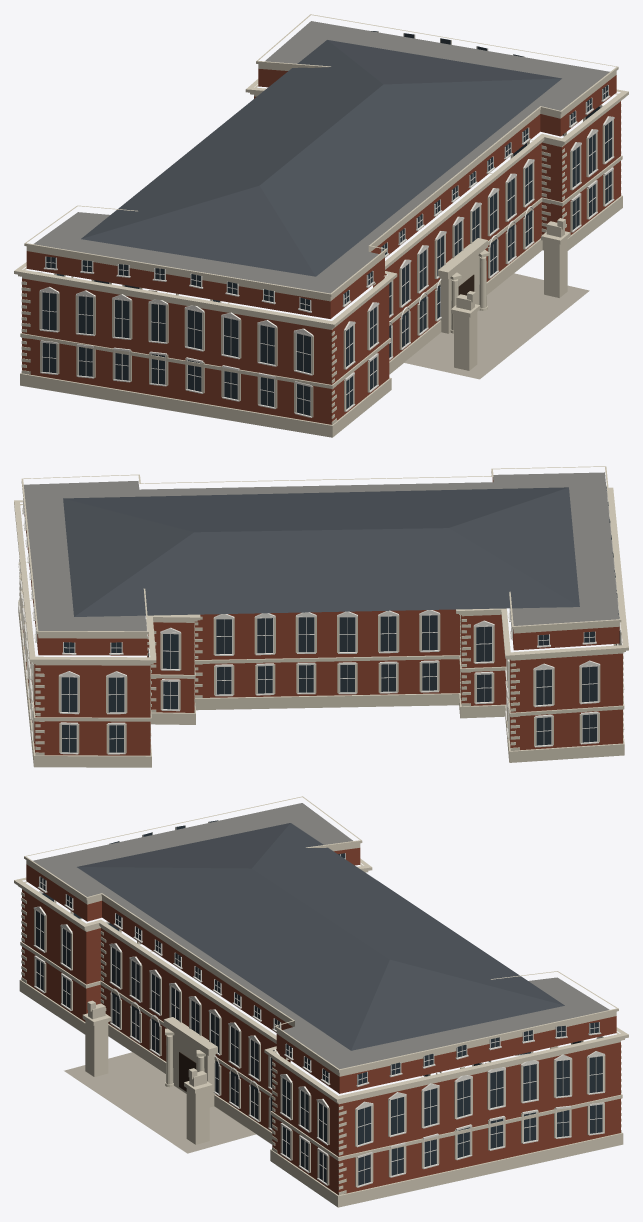
File: kensington_central_library.glb
3 views of the same model, one above another, from view 1: azimuth 30°, elevation 25°; view 2: azimuth 150°, elevation 25°; view 3: azimuth 270°, elevation 25° (orthographic). The views are drawn at different scales.
Bounding box in the file's own units: 66.88 × 17.61 × 58.89.
